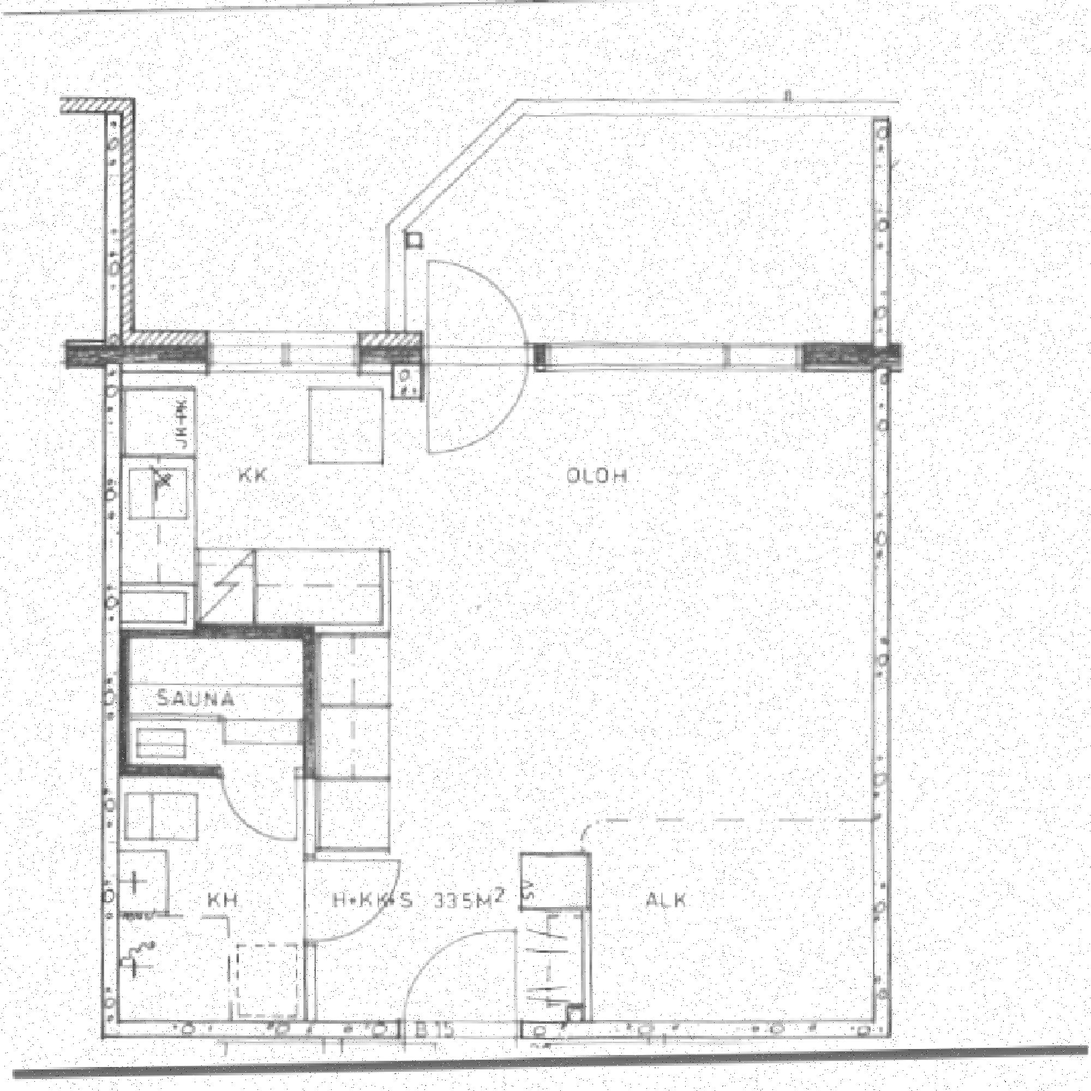wall: (392, 343, 892, 371), (103, 332, 422, 373), (103, 1021, 892, 1036), (876, 343, 892, 1036), (103, 332, 121, 625), (103, 777, 121, 1036), (876, 116, 892, 343), (103, 625, 126, 777), (103, 623, 306, 638), (121, 585, 196, 623), (306, 766, 316, 1036), (103, 765, 316, 777), (393, 344, 422, 399), (306, 622, 316, 777), (583, 908, 593, 1036), (306, 622, 391, 634), (382, 550, 391, 634), (568, 1006, 583, 1036)
